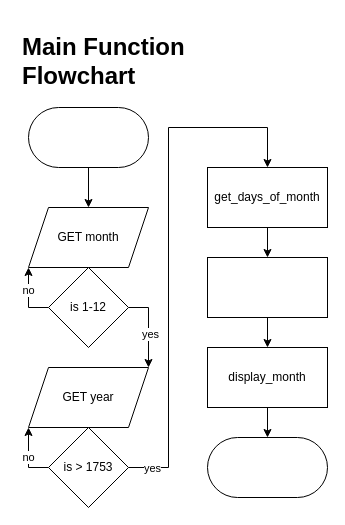
Image size: 345x525. Some labels were removed from this diagram. The box of each missing label's shape, as (x1, y1, x2, y2) in pixels:
END: (206, 436, 328, 498)
get_day_of_week: (206, 256, 328, 318)
START: (28, 106, 148, 168)
